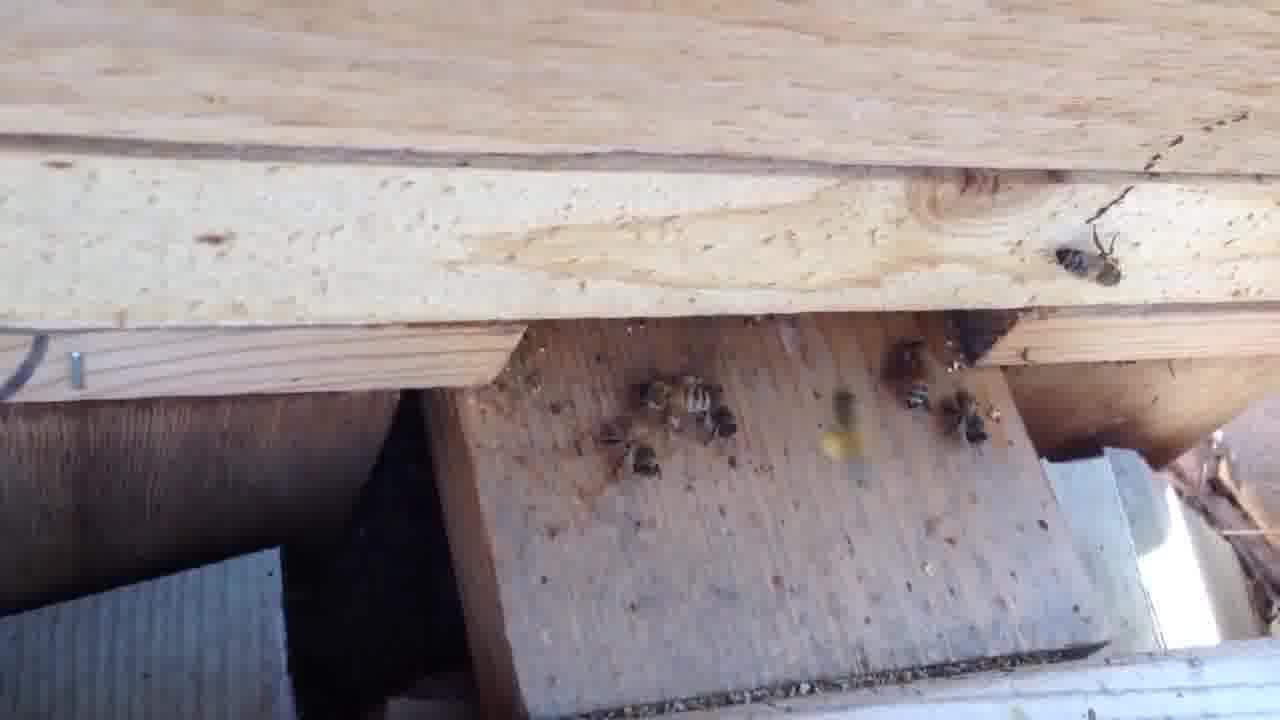pollen: (815, 384, 880, 492)
